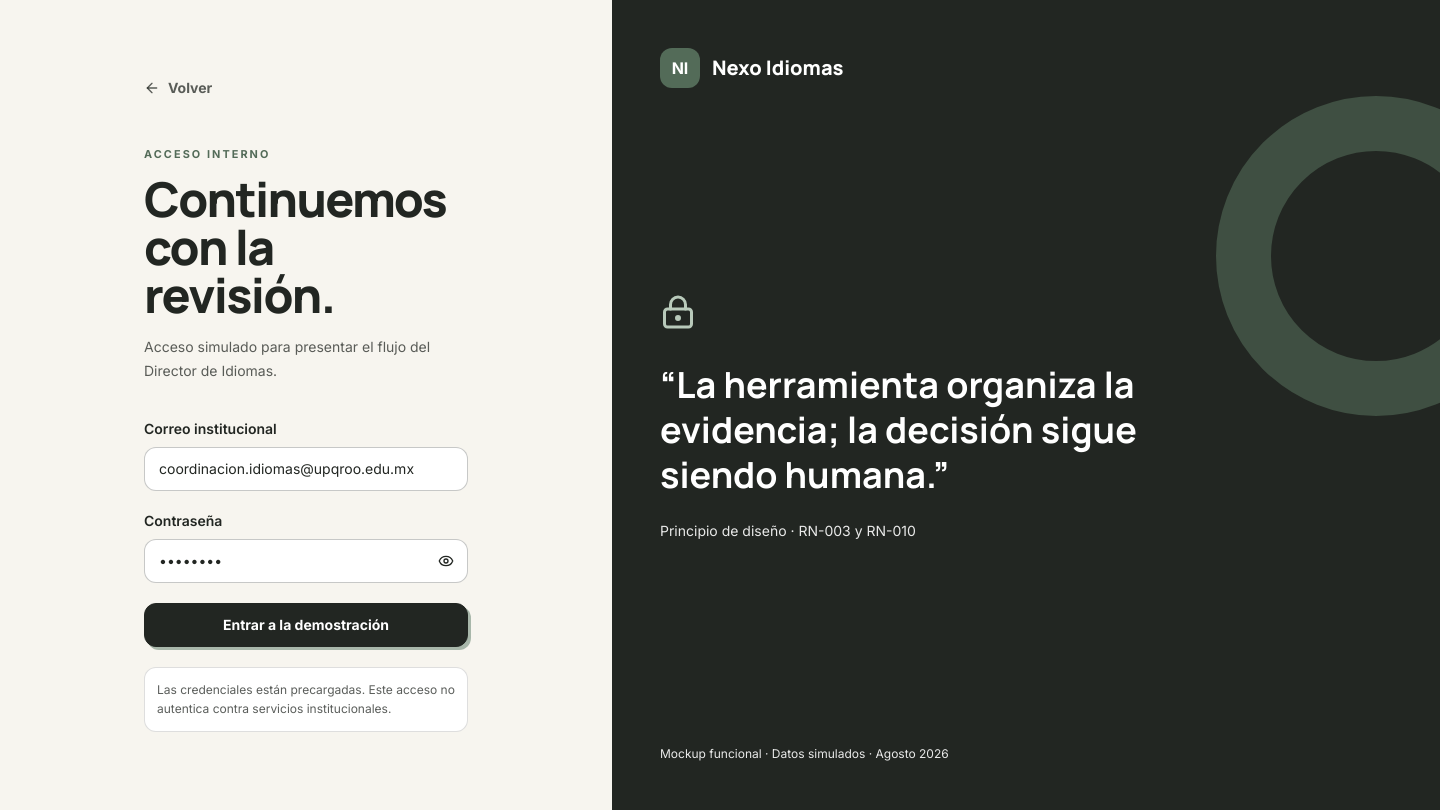
LoginPage › permite mostrar y ocultar la contraseña
Click the button named "Mostrar contraseña": (446, 561) [428,543,464,579]
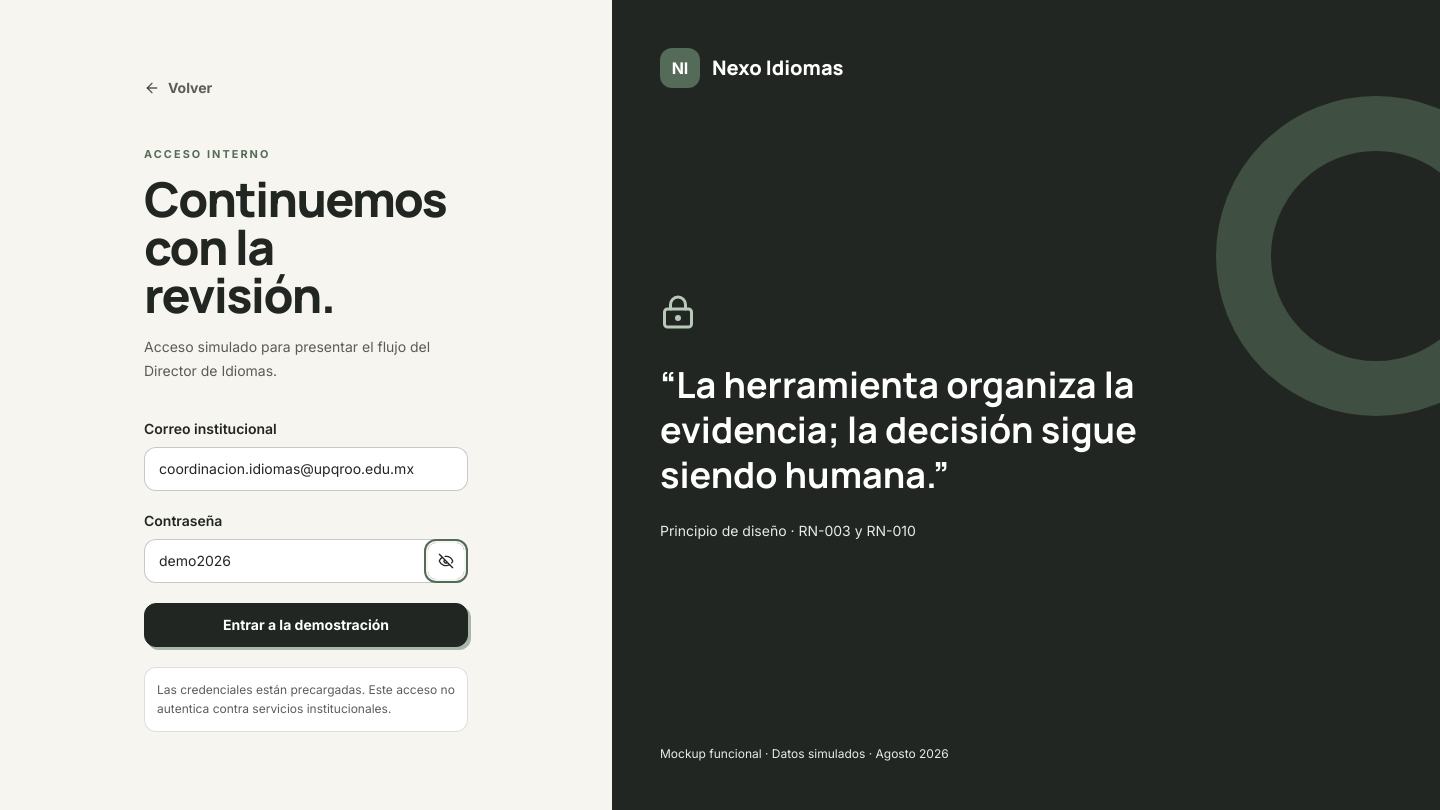
expect the field labelled "Contraseña" shows its text: met, box [144,539,468,583]
